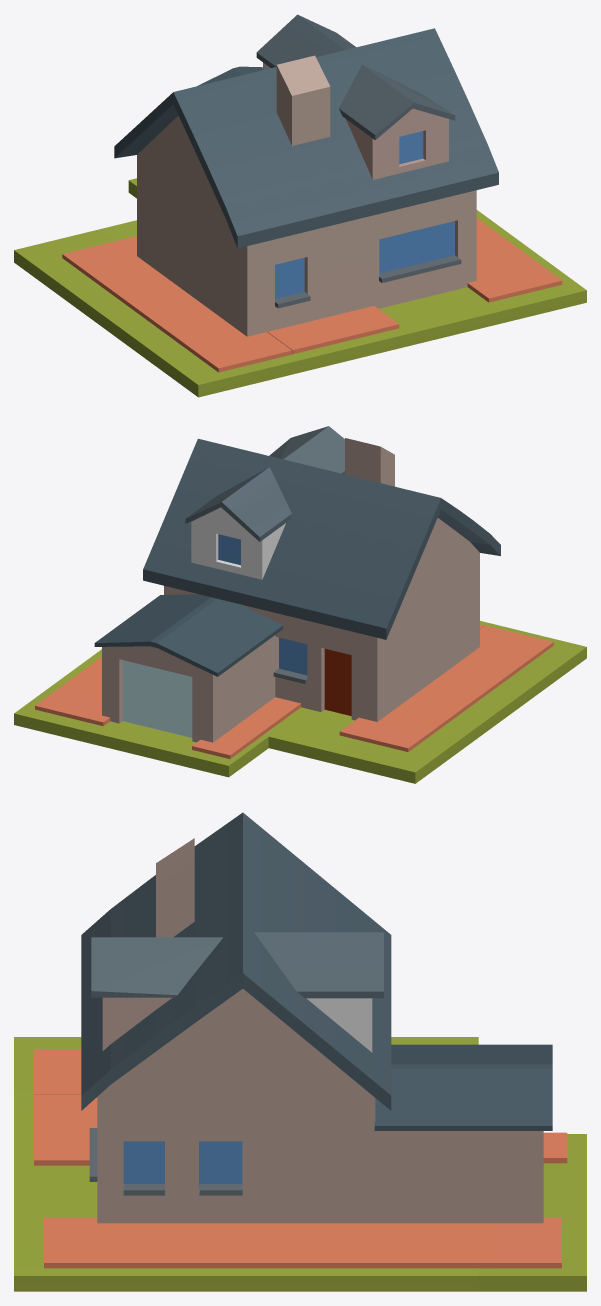
File: Outer House8.fbx
3 renders of one model, top to bottom at view 1: azimuth 30°, elevation 25°; view 2: azimuth 150°, elevation 25°; view 3: azimuth 270°, elevation 25°, orthographic. The views are drawn at different scales.
Parts seen in each view (by area): view 1: Outer_House8; view 2: Outer_House8; view 3: Outer_House8.
Part boxes in pixels (x1,y1,x2,y2): Outer_House8: (14,14,586,397); Outer_House8: (14,426,586,783); Outer_House8: (14,812,586,1291).
Bounding box in the file's own units: 881 × 528 × 893.
Materials: 2 (1 with a texture image).
